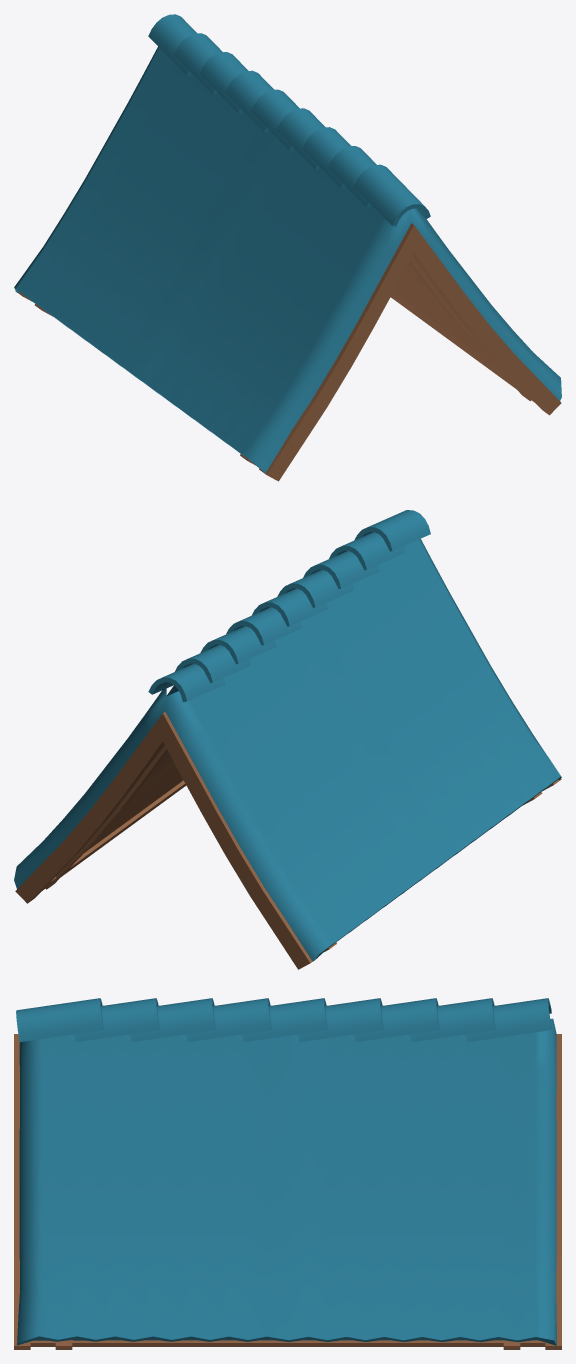
File: Roof_RoundTiles_4x6.glb
3 views of the same model, one above another, from view 1: azimuth 30°, elevation 25°; view 2: azimuth 150°, elevation 25°; view 3: azimuth 270°, elevation 25° (orthographic). The views are drawn at different scales.
Parts seen in each view (by area): view 1: Roof_RoundTiles_4x6; view 2: Roof_RoundTiles_4x6; view 3: Roof_RoundTiles_4x6.
Part boxes in pixels (x1=…): Roof_RoundTiles_4x6: x1=14, y1=14, x2=561, y2=481; Roof_RoundTiles_4x6: x1=14, y1=510, x2=561, y2=969; Roof_RoundTiles_4x6: x1=14, y1=998, x2=561, y2=1349.
Size of the model in its own units: 5.51 by 4.23 by 7.57.
